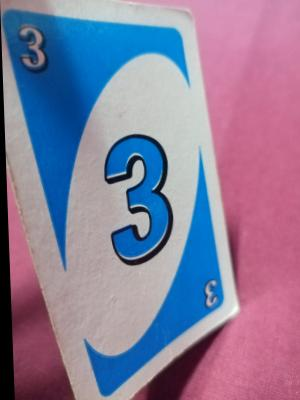blue: (17, 15, 222, 330)
num_3: (16, 24, 53, 75)
